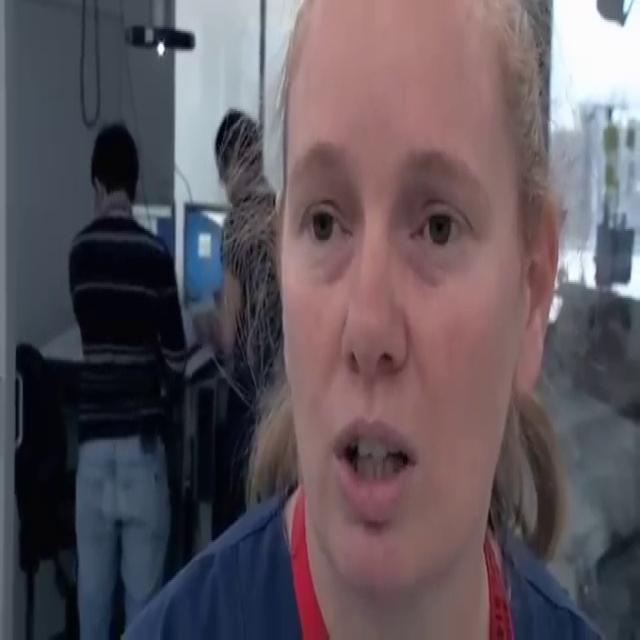doctor: (66, 120, 188, 638)
monitor: (182, 200, 231, 311)
patient: (118, 0, 604, 636)
